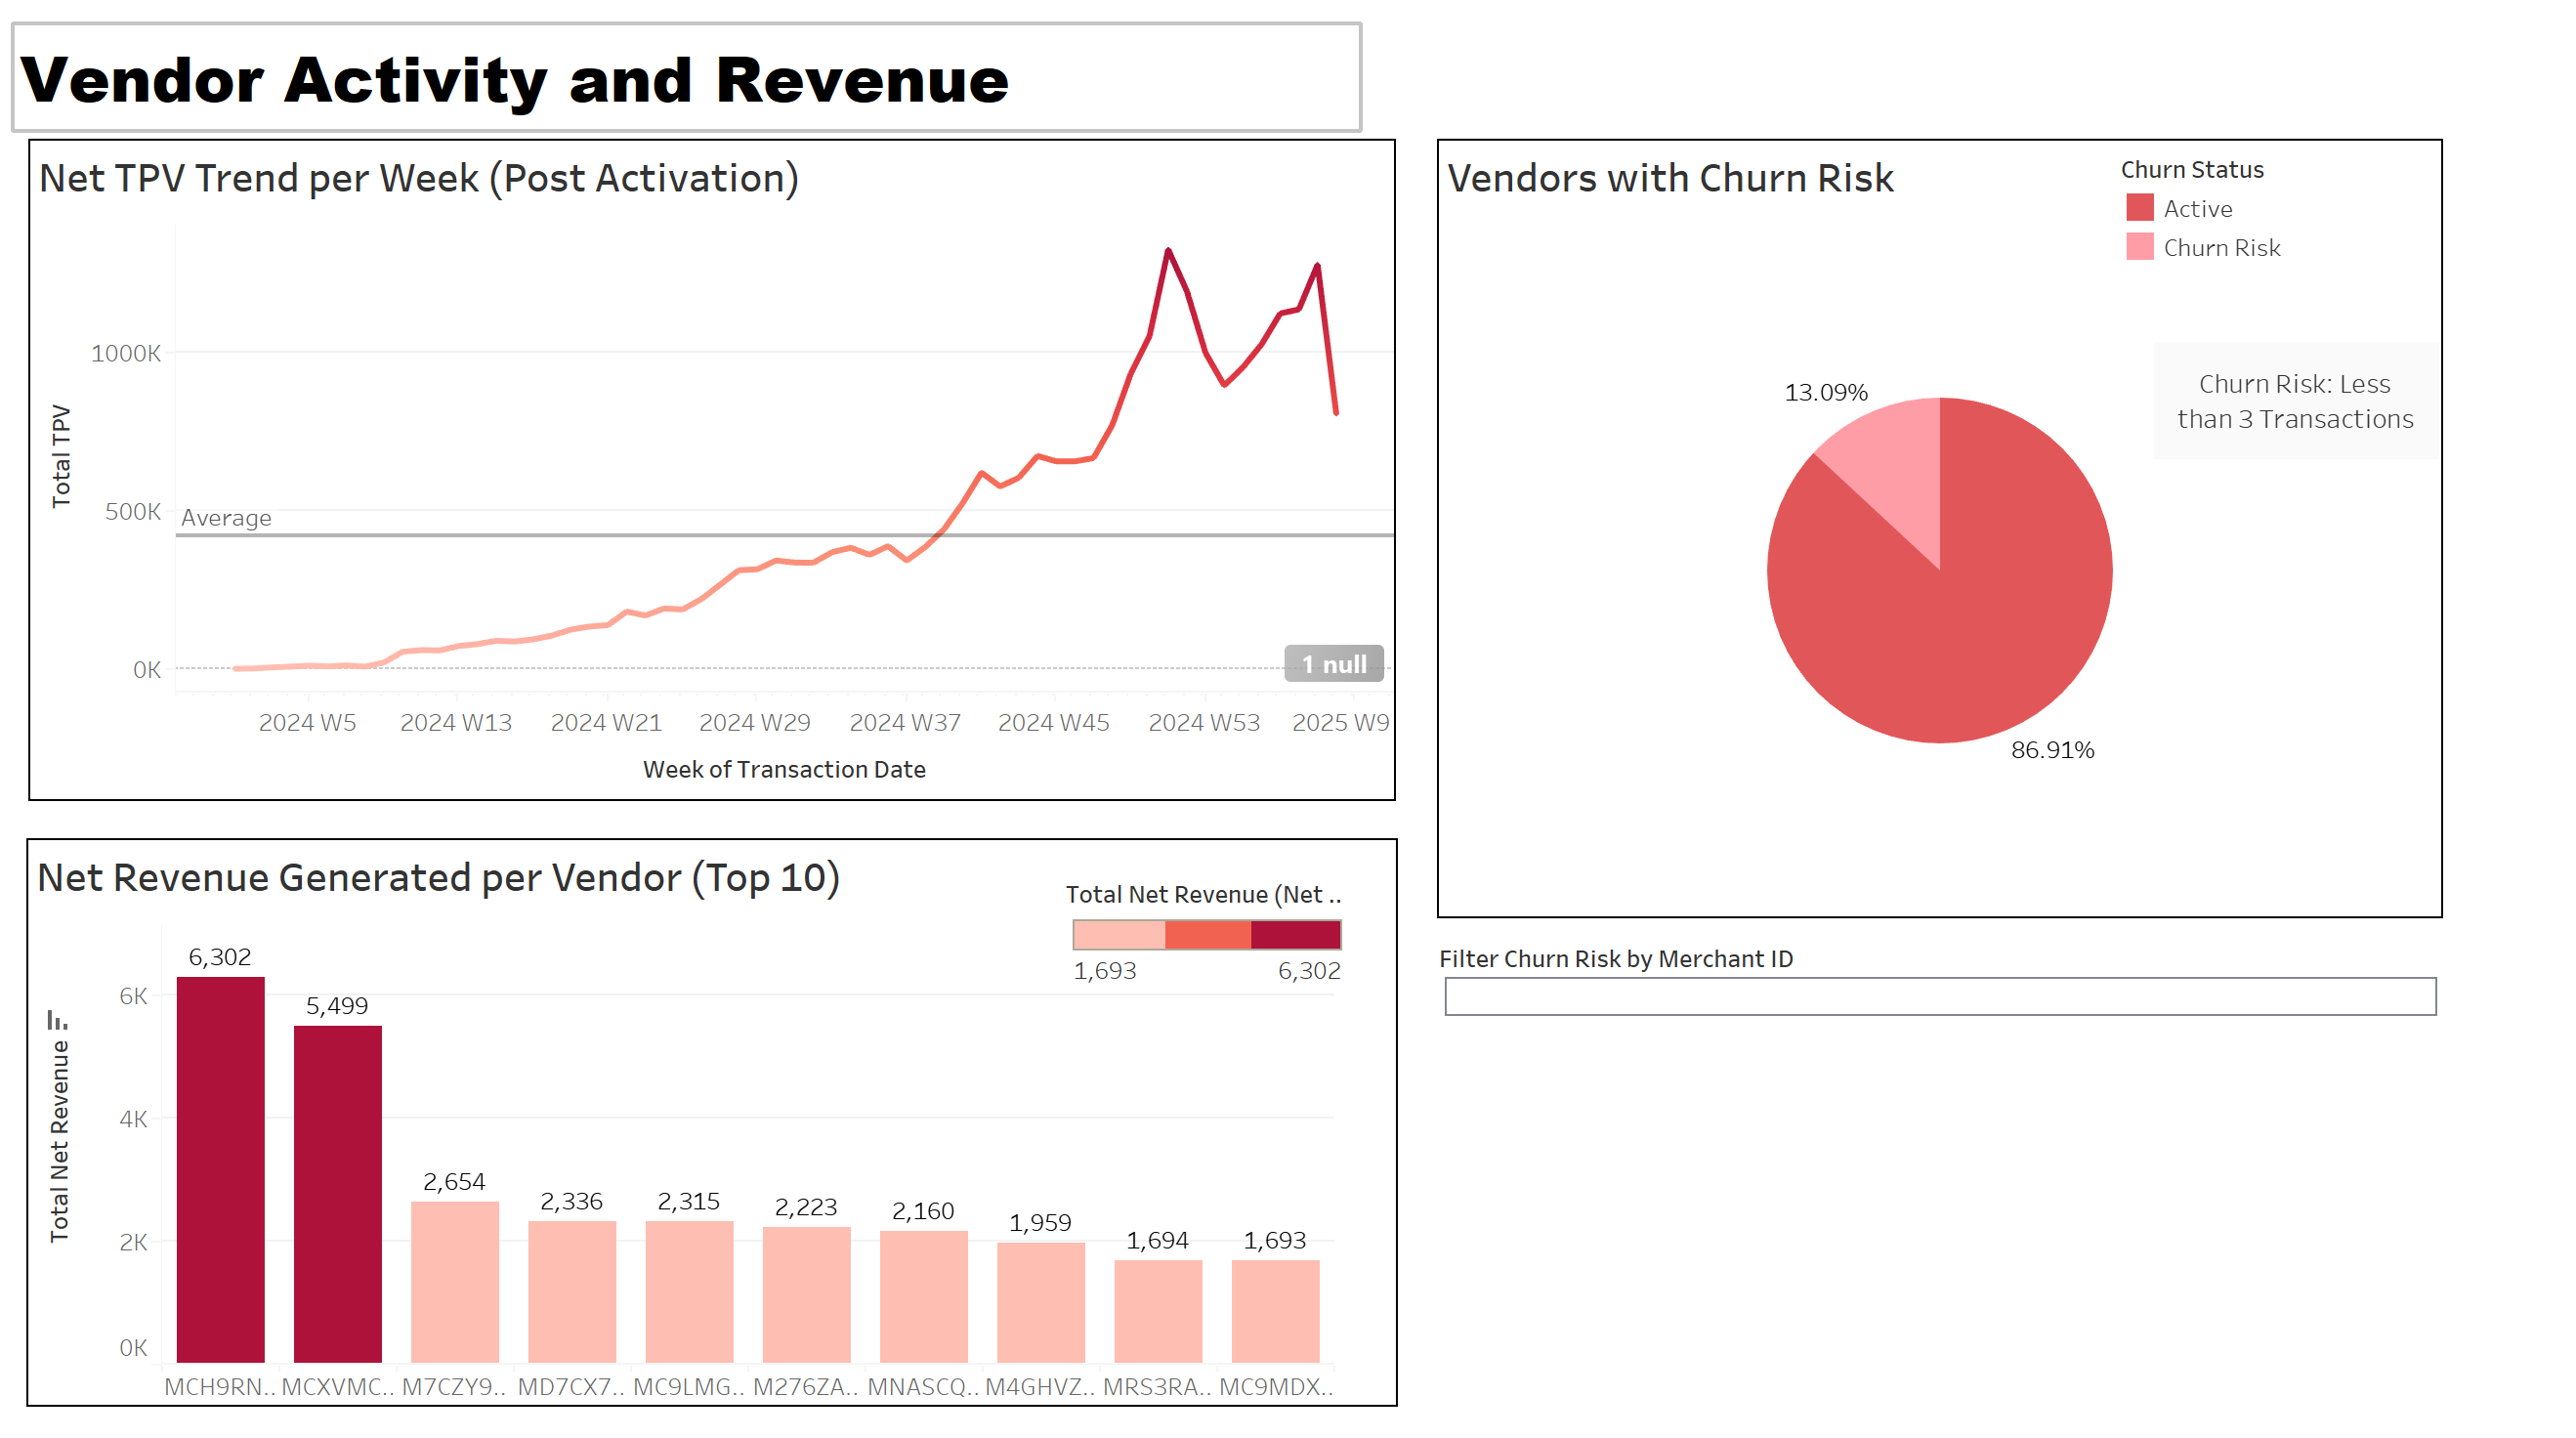

The page's visual inventory and layout, read from the dashboard file:
{"tool":"tableau","page":{"name":"Dashboard 2","canvas":[1000,1000],"units":"permille","ordinal":1},"visuals":[{"type":"text","box":[6,16.3,519,72]},{"type":"worksheet","title":"Net TPV Trend Post Activation","mark":"Line","rows":["total_tpv"],"cols":["transaction_date (daily_revenue_trend2.csv)"],"box":[12,96.5,528.5,460.6]},{"type":"worksheet","title":"Churn Risk Pie Chart","mark":"Pie","box":[556.2,96.5,388.3,542.1]},{"type":"legend","title":"Churn Risk Pie Chart","param":"[federated.07kt5c90lsa3ut13zqksk0xcdac8].[none:churn_status:nk]","box":[820.6,106,104.2,78.8]},{"type":"worksheet","title":"Net Revenue Generated Per Merchant","mark":"Bar","rows":["total_net_revenue (net_revenue_per_merchant.csv)"],"cols":["merchant_id"],"box":[8.2,577.5,536,406.2]},{"type":"legend","title":"Net Revenue Generated Per Merchant","param":"[federated.07kt5c90lsa3ut13zqksk0xcdac8].[sum:total_net_revenue (net_revenue_per","box":[413,610.1,110.2,81.5]}]}

Visuals, with their boxes on the dashboard's canvas, which has no fixed pixel size, in thousandths of its width and height (x1, y1, x2, y2). These are canvas units, not pixel positions in the 2576x1438 screenshot, which may show the page scaled, cropped or inside an application window:
text: crop(6, 16, 525, 88)
"Net TPV Trend Post Activation" worksheet (Line marks): crop(12, 96, 540, 557)
"Churn Risk Pie Chart" worksheet (Pie marks): crop(556, 96, 944, 639)
"Churn Risk Pie Chart" legend: crop(821, 106, 925, 185)
"Net Revenue Generated Per Merchant" worksheet (Bar marks): crop(8, 578, 544, 984)
"Net Revenue Generated Per Merchant" legend: crop(413, 610, 523, 692)
